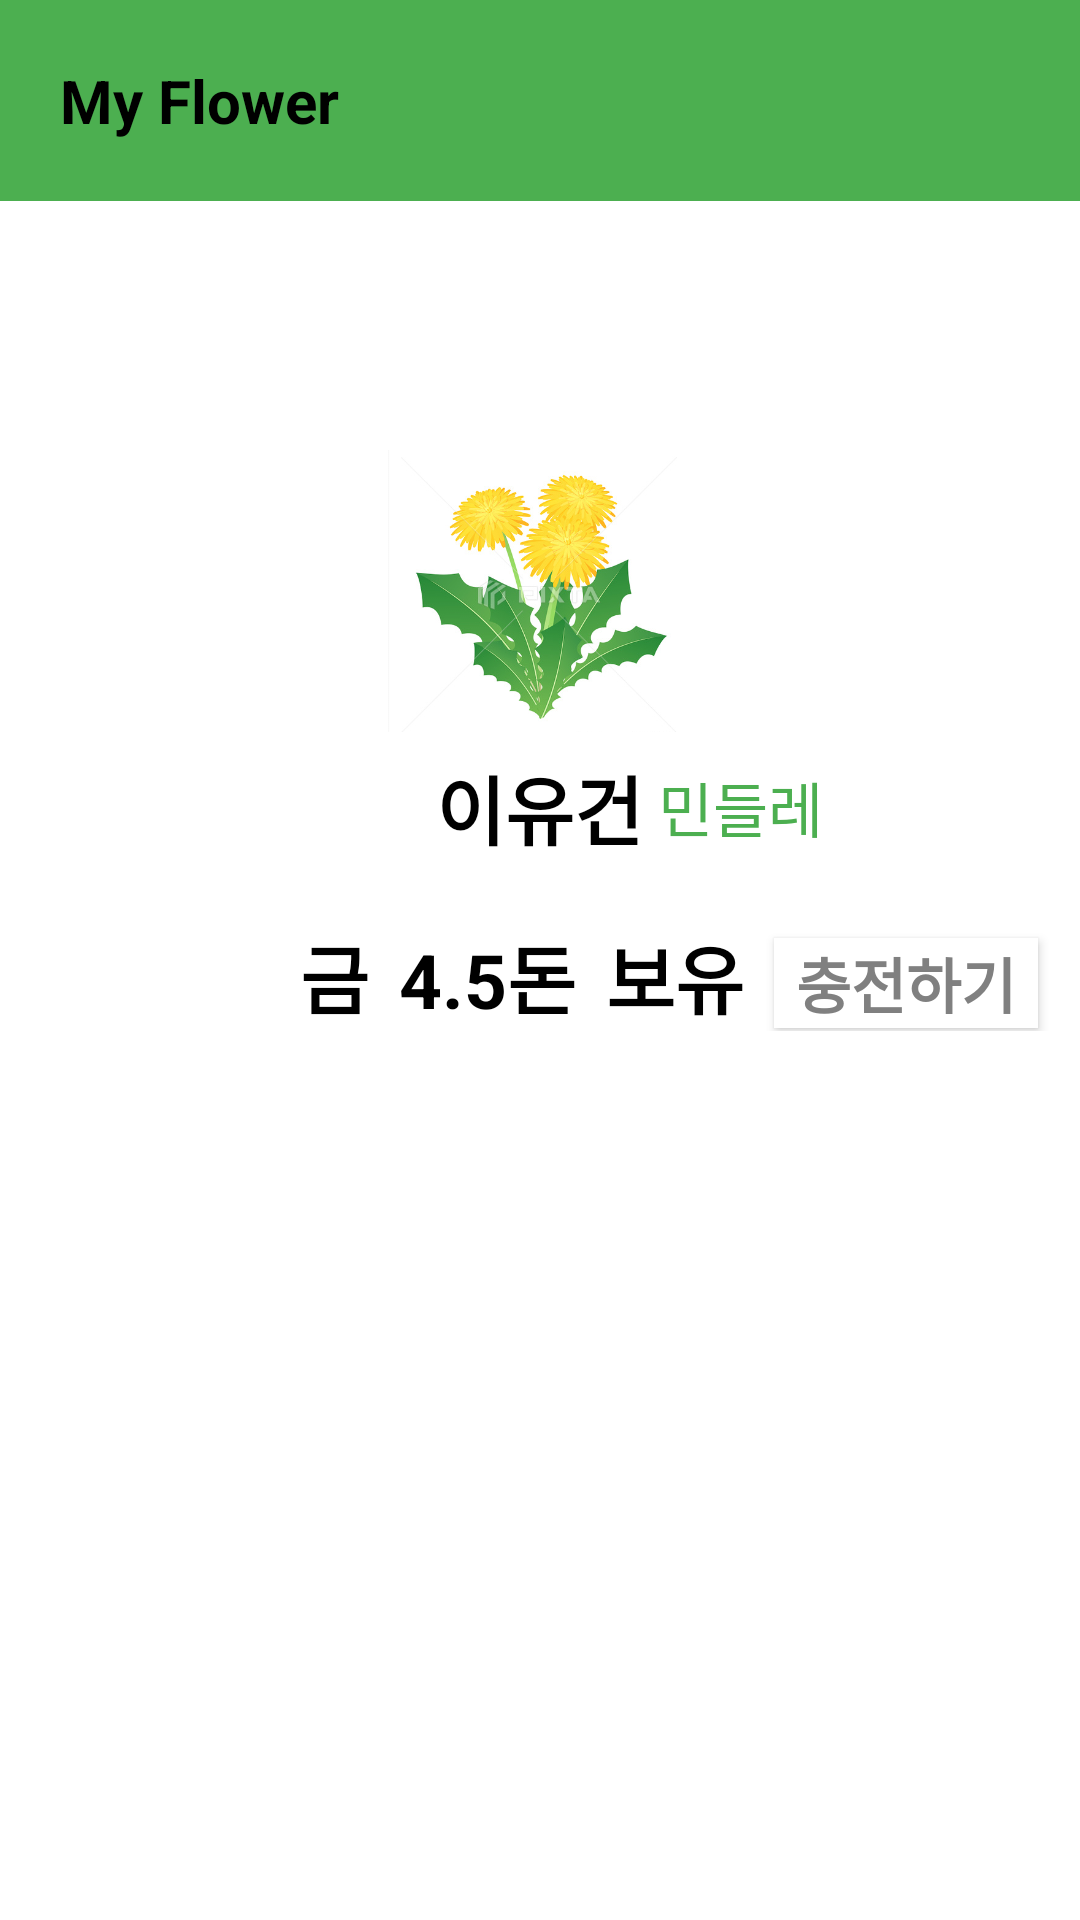

Icon click points for this 1080×1920 phone screenshot, format point (x, y):
flower ex: point (541, 597)
